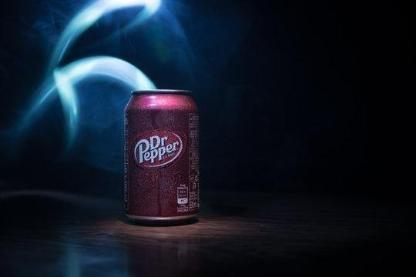Can: (123, 87, 201, 226)
